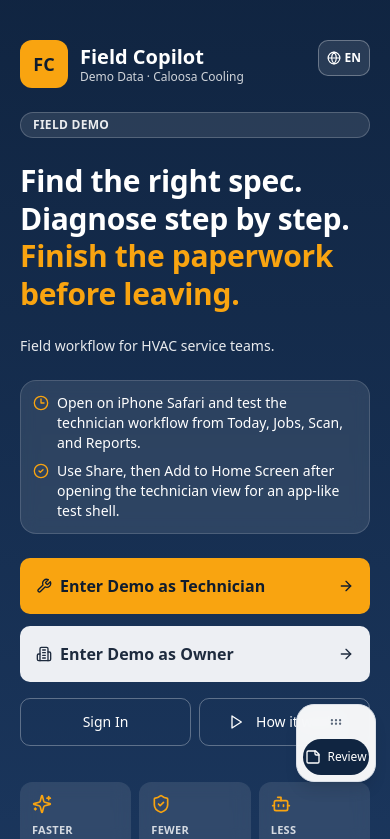
Test case: migration baseline › keeps scroll-only activity out of the primary review context
The width and height of the screenshot is (390, 839).
Click the button with aria-label "review layer" at (336, 757), box [303,739,369,775]
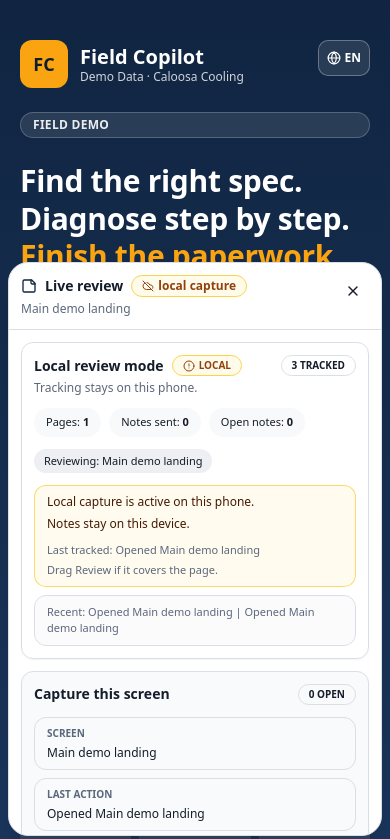
Now the text "Reviewing: Main demo landing" is shown, box [34,449,212,473]
